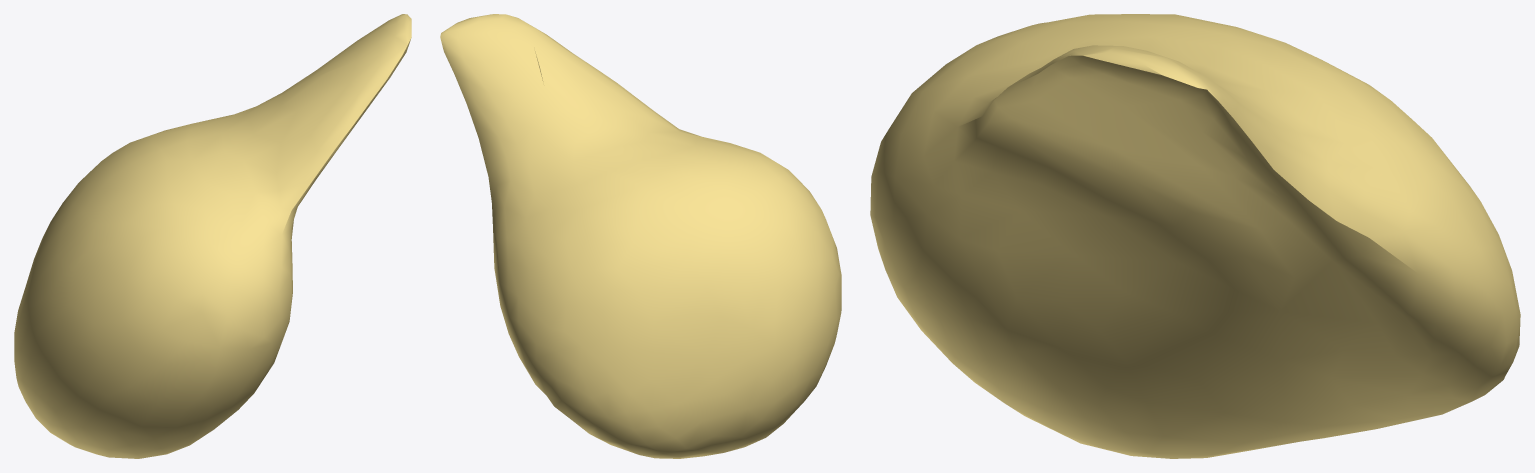
Rendered from fma73514_mm3532.glb.
3 views of the same model, side by side, from view 1: azimuth 30°, elevation 25°; view 2: azimuth 150°, elevation 25°; view 3: azimuth 270°, elevation 25° (orthographic). The views are drawn at different scales.
Parts seen in each view (by area): view 1: FMA73514_MM3532; view 2: FMA73514_MM3532; view 3: FMA73514_MM3532.
Part boxes in pixels (<box>): FMA73514_MM3532: <box>14,14,411,458</box>; FMA73514_MM3532: <box>440,14,841,458</box>; FMA73514_MM3532: <box>870,14,1520,458</box>.
Size of the model in its own units: 0.0044 by 0.00401 by 0.00386.
